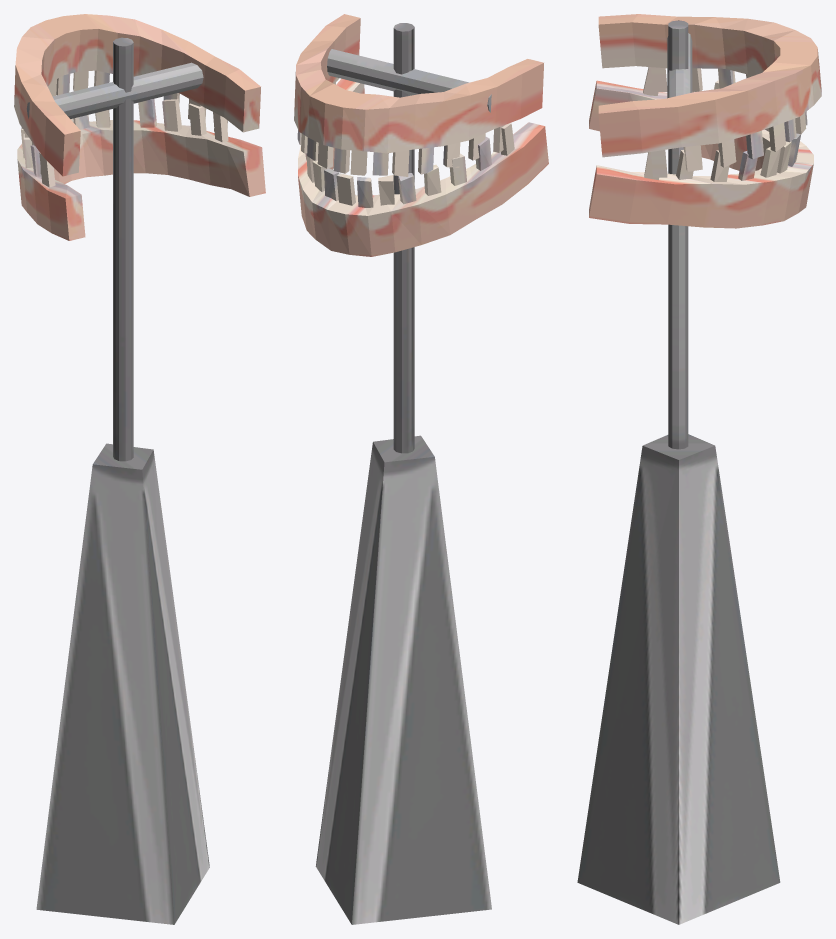
Rendered from theeth.glb.
3 renders of one model, left to right at view 1: azimuth 30°, elevation 25°; view 2: azimuth 150°, elevation 25°; view 3: azimuth 270°, elevation 25°, orthographic.
Visible parts, largest first — view 1: theeth; view 2: theeth; view 3: theeth.
Part boxes in pixels (x1,y1,x2,y2): theeth: (14,14,265,924); theeth: (294,14,548,924); theeth: (577,14,821,924).
Bounding box in the file's own units: 187 × 772 × 199.
Materials: 1 (1 with a texture image).
